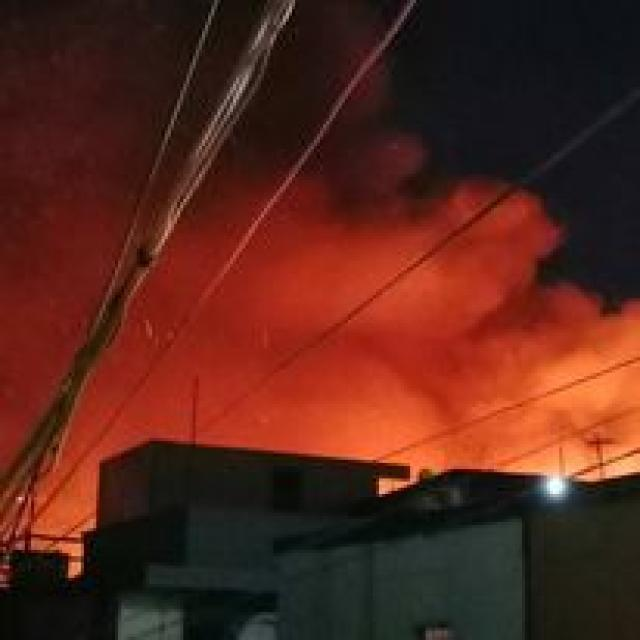Smoke: (0, 8, 491, 390), (262, 132, 640, 466)
